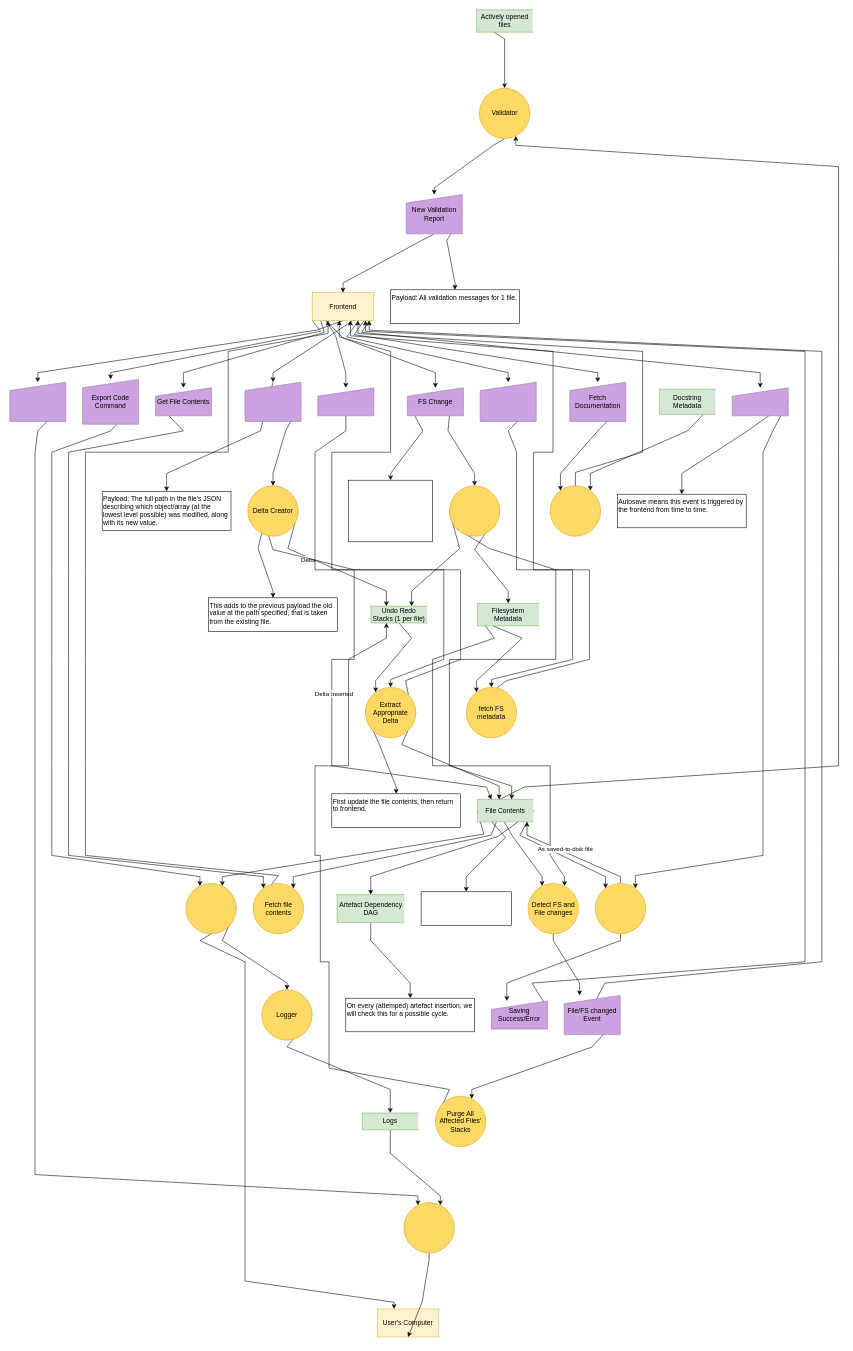
Some shapes in this 853 by 1351 pixel diagram are drawn without their labels. Each missing label, with the box of its shape:
4 possibilities: add a file delete a file create folder delete folder: (348, 480, 433, 542)
Any changes will be done in memory, and persisted to disk only if file is saved.: (421, 891, 511, 925)
Apply Change: (449, 485, 500, 536)
Code Exporter: (185, 883, 236, 934)
Export Logs Event: (9, 382, 66, 421)
Fetch docstring: (550, 485, 601, 536)
File Change: (244, 382, 301, 421)
File Contents Persistor: (595, 883, 646, 934)
Get FS Metadata (on refresh btn): (480, 382, 536, 421)
Log Exporter: (403, 1202, 454, 1253)
Save File: (732, 387, 788, 416)
Undo/Redo Event: (317, 387, 374, 416)
